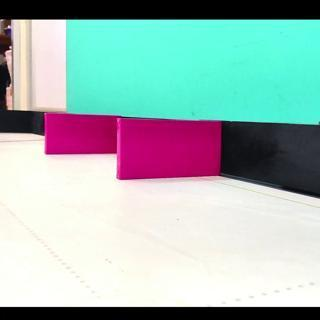xparking: (118, 120, 220, 174), (46, 115, 116, 154)
